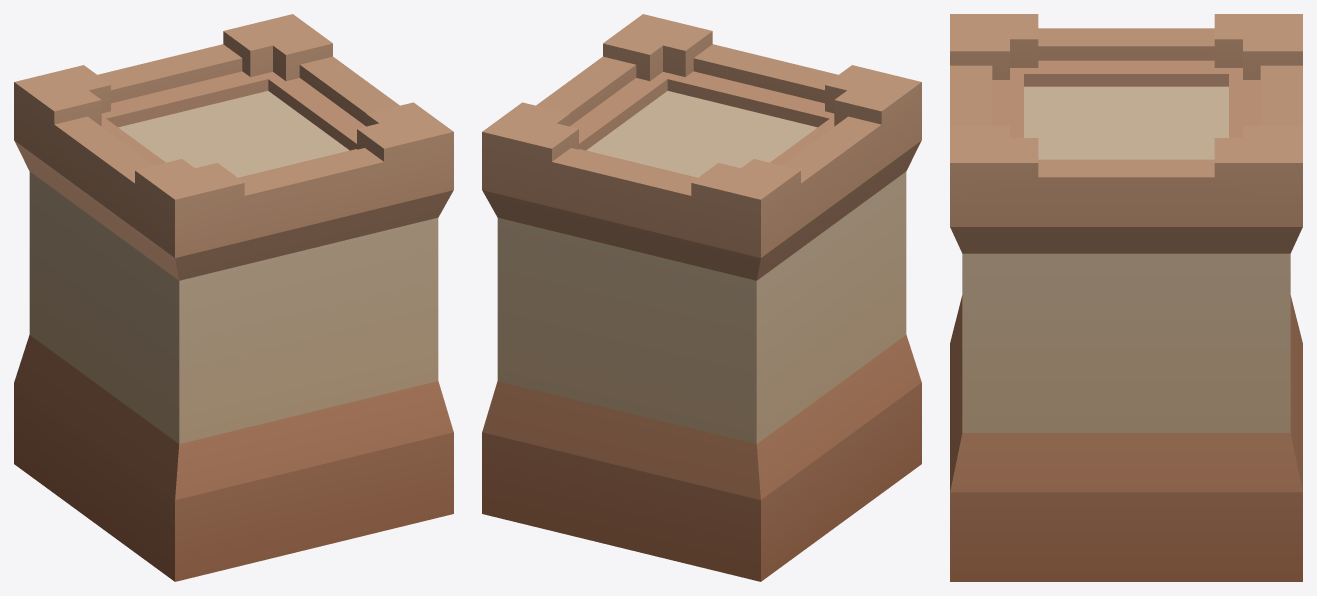
The model's file is tower-square.glb.
The picture shows the model from 3 angles, left to right: view 1: azimuth 30°, elevation 25°; view 2: azimuth 150°, elevation 25°; view 3: azimuth 270°, elevation 25°; orthographic projection. The views are drawn at different scales.
Visible parts, largest first — view 1: tower-square; view 2: tower-square; view 3: tower-square.
Part boxes in pixels (x1=…): tower-square: x1=14, y1=14, x2=453, y2=581; tower-square: x1=482, y1=14, x2=921, y2=581; tower-square: x1=950, y1=14, x2=1302, y2=581.
Size of the model in its own units: 1 by 1.31 by 1.
